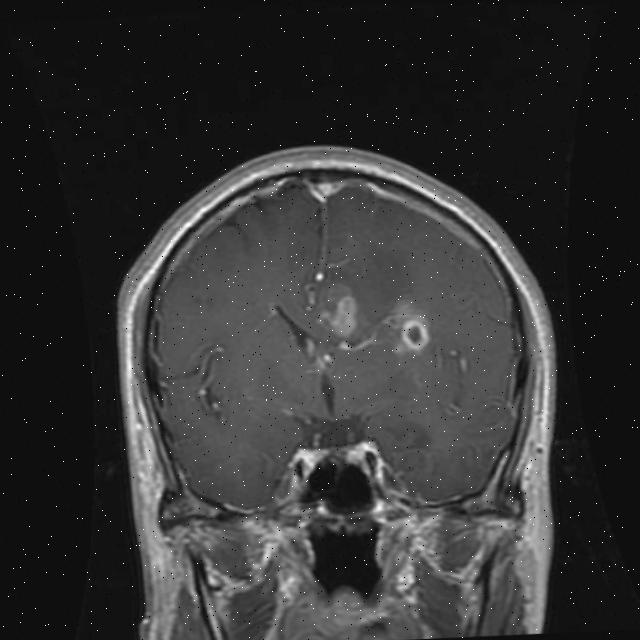Glioma: (380, 298, 433, 355), (318, 290, 361, 341)
